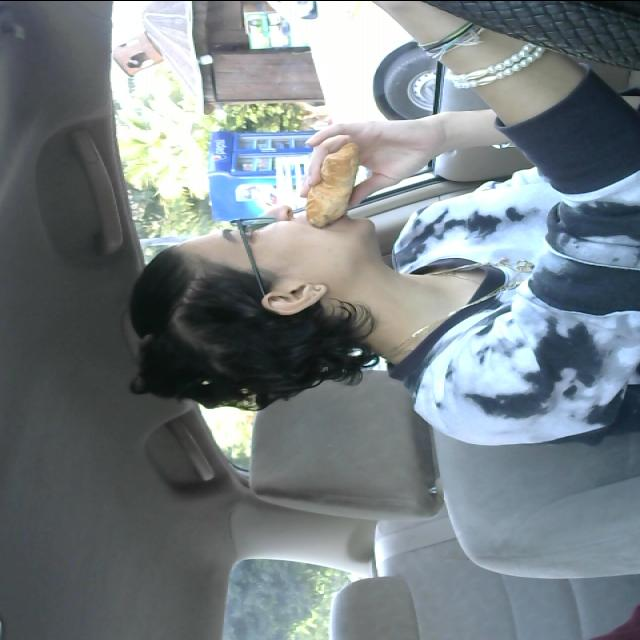eating: (293, 132, 377, 232)
